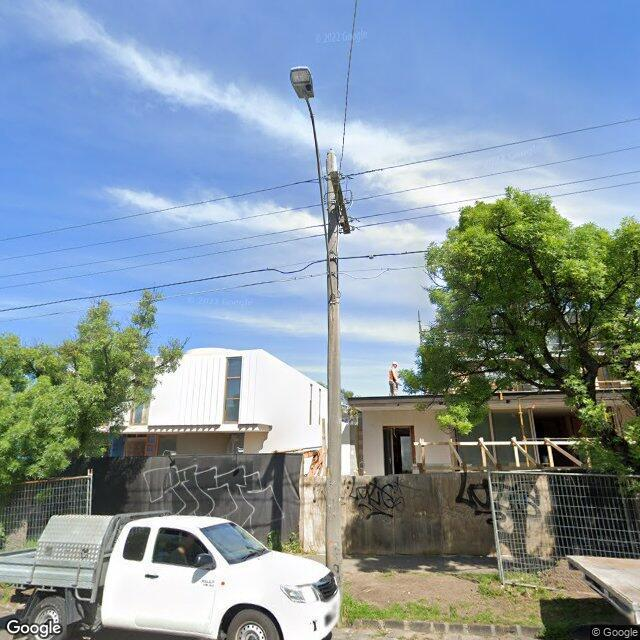crossarm: (330, 172, 350, 234)
streetlight: (290, 66, 335, 304)
timber-pole: (326, 152, 342, 598)
